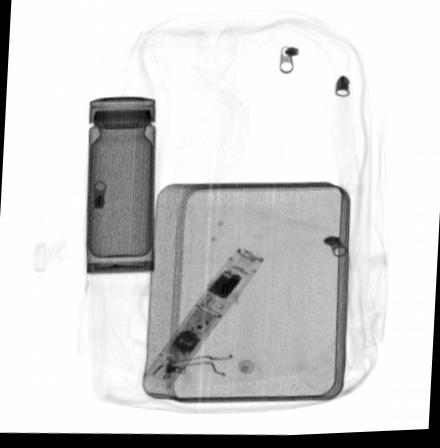Baton: (142, 248, 268, 390)
